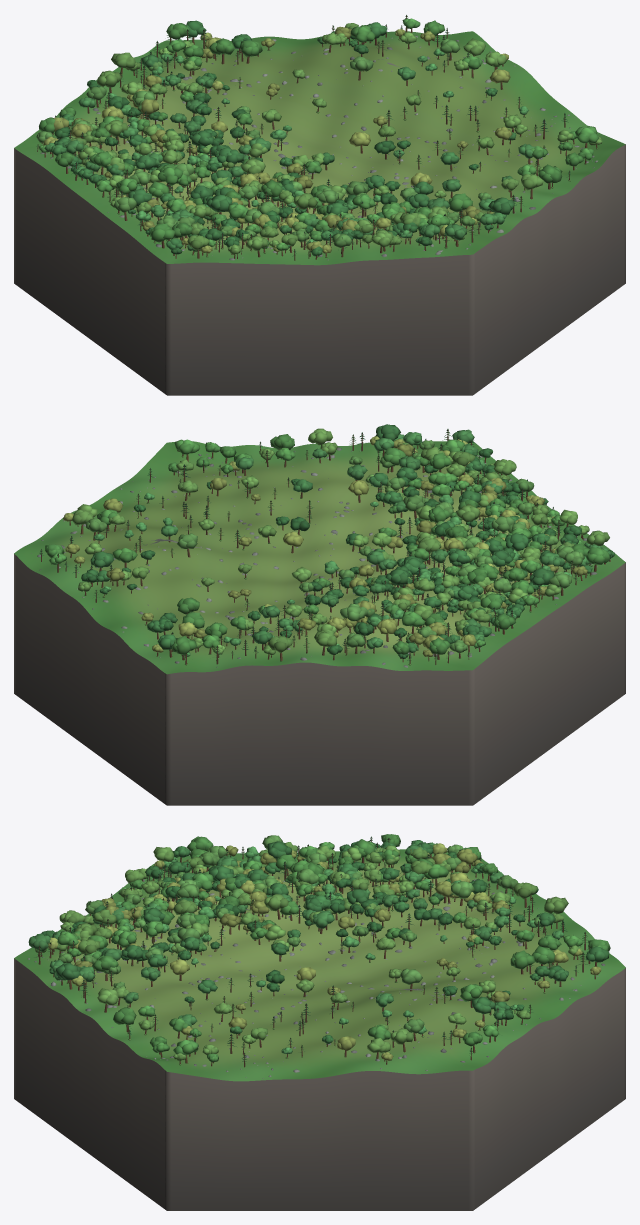
3 renders of one model, top to bottom at view 1: azimuth 30°, elevation 25°; view 2: azimuth 150°, elevation 25°; view 3: azimuth 270°, elevation 25°, orthographic.
Visible parts, largest first — view 1: hex_side_cut, terrain, broadleaf_canopy, trunks, conifer_canopy, boulders; view 2: hex_side_cut, terrain, broadleaf_canopy, trunks, conifer_canopy, boulders; view 3: hex_side_cut, terrain, broadleaf_canopy, trunks, conifer_canopy, boulders.
Boxes of the visible parts, box(x1,y1,x2,y2) form: hex_side_cut: box(14, 144, 625, 395); terrain: box(14, 31, 625, 265); broadleaf_canopy: box(36, 18, 602, 256); trunks: box(37, 15, 597, 260); conifer_canopy: box(36, 15, 570, 256); boulders: box(40, 35, 597, 260); hex_side_cut: box(14, 554, 625, 805); terrain: box(14, 441, 625, 674); broadleaf_canopy: box(45, 424, 614, 658); trunks: box(41, 430, 610, 664); conifer_canopy: box(39, 429, 593, 660); boulders: box(31, 447, 597, 667); hex_side_cut: box(14, 958, 625, 1210); terrain: box(14, 849, 625, 1081); broadleaf_canopy: box(28, 834, 610, 1062); trunks: box(38, 837, 597, 1067); conifer_canopy: box(34, 836, 590, 1061); boulders: box(28, 856, 605, 1078).
Size of the model in its own units: 4330 by 1553 by 5000.
